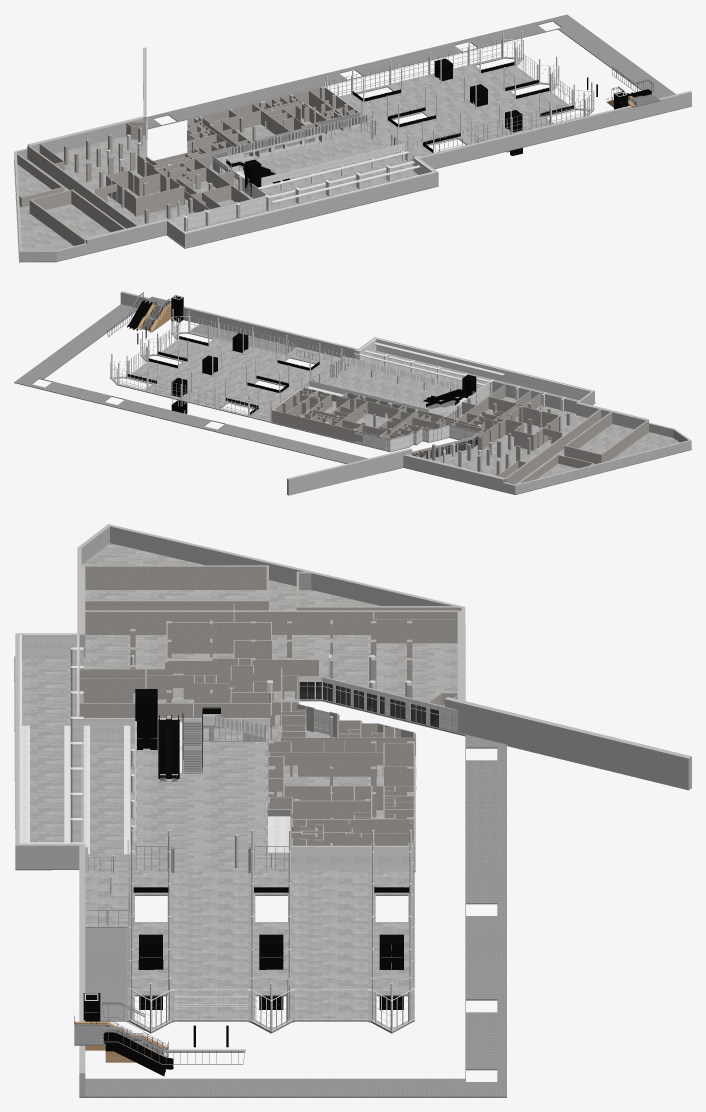
Rendered from station-b1.glb.
3 views of the same model, one above another, from view 1: azimuth 30°, elevation 25°; view 2: azimuth 150°, elevation 25°; view 3: azimuth 270°, elevation 25° (orthographic). The views are drawn at different scales.
Visible parts, largest first — view 1: Node; view 2: Node; view 3: Node.
Boxes of the visible parts, left/top/right/bottom form: Node: left=14, top=14, right=691, bottom=262; Node: left=14, top=291, right=691, bottom=495; Node: left=14, top=524, right=691, bottom=1097.
Size of the model in its own units: 219 by 17.07 by 113.
Materials: 14 (14 with a texture image).
